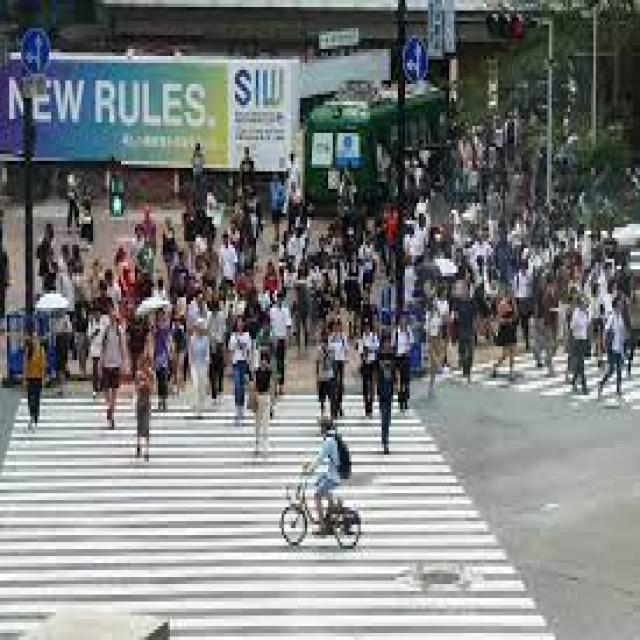Pedestrians: (284, 420, 361, 552), (598, 294, 628, 398), (98, 308, 123, 430), (21, 332, 49, 437), (247, 346, 272, 462), (494, 283, 522, 385), (372, 353, 398, 455), (188, 311, 212, 420), (566, 294, 591, 398), (456, 280, 480, 388), (132, 360, 154, 462), (314, 336, 340, 420)
